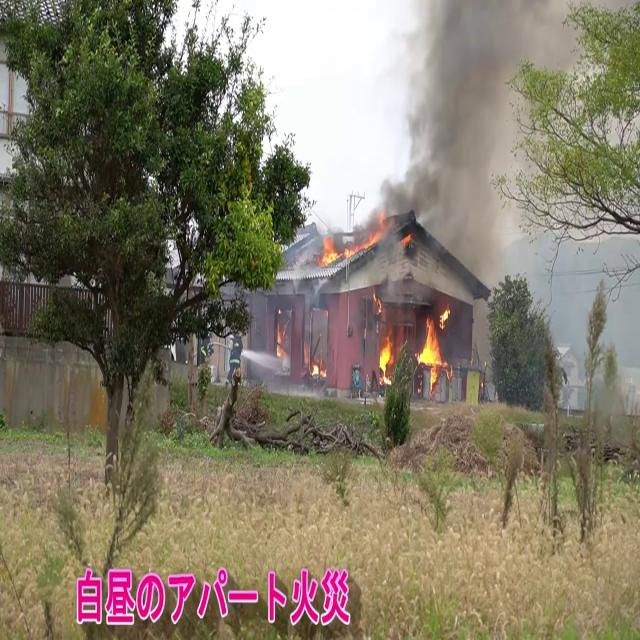Fire: (314, 221, 386, 269), (416, 306, 452, 386), (376, 330, 396, 384)
Smoke: (357, 1, 535, 280)
